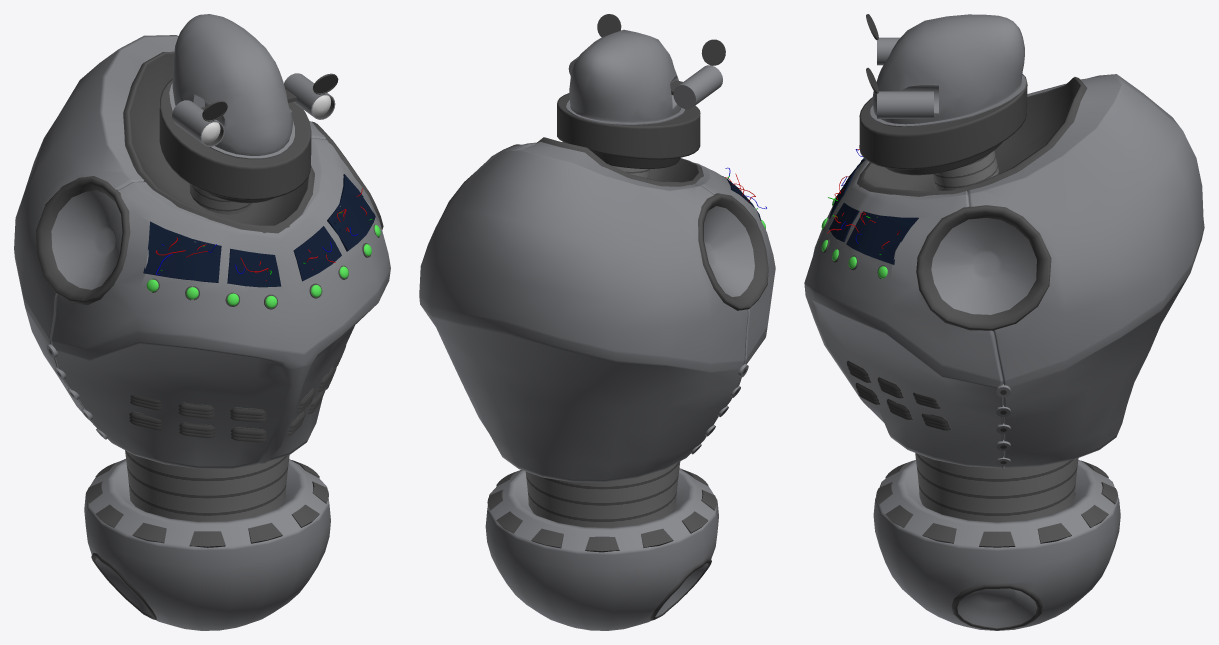
File: WaveBot_Body.fbx
3 views of the same model, side by side, from view 1: azimuth 30°, elevation 25°; view 2: azimuth 150°, elevation 25°; view 3: azimuth 270°, elevation 25° (orthographic). The views are drawn at different scales.
Visible parts, largest first — view 1: Torso_Main3, polySurface17, Dome, Belly, Jaw, Panel_Right_Far, pCylinder2 (×2), Panel_Left_Far, Panel_Right_Center, Panel_Left_Center, Neck, polySurface16 (+2 smaller); view 2: Torso_Main3, polySurface17, Dome, Belly, Jaw, pCylinder2, polySurface16, pCylinder4, polySurface18; view 3: Torso_Main3, polySurface17, Dome, Belly, Jaw, polySurface22, Panel_Left_Far, pCylinder2, Neck, polySurface21, Panel_Left_Center.
Boxes of the visible parts, bbox=[...] form: Torso_Main3: bbox=[14, 35, 390, 468]; polySurface17: bbox=[84, 459, 330, 630]; Dome: bbox=[169, 14, 294, 159]; Belly: bbox=[125, 450, 289, 521]; Jaw: bbox=[159, 79, 311, 203]; Panel_Right_Far: bbox=[143, 221, 221, 282]; pCylinder2 (×2): bbox=[172, 73, 335, 146]; Panel_Left_Far: bbox=[327, 174, 375, 251]; Panel_Right_Center: bbox=[227, 248, 281, 287]; Panel_Left_Center: bbox=[293, 226, 341, 281]; Neck: bbox=[189, 184, 252, 214]; polySurface16: bbox=[95, 558, 151, 615]; Torso_Main3: bbox=[419, 137, 775, 482]; polySurface17: bbox=[485, 468, 718, 630]; Dome: bbox=[566, 29, 684, 124]; Belly: bbox=[525, 461, 680, 527]; Jaw: bbox=[557, 93, 700, 168]; pCylinder2: bbox=[673, 65, 722, 109]; polySurface16: bbox=[655, 563, 708, 616]; pCylinder4: bbox=[701, 39, 725, 65]; polySurface18: bbox=[650, 557, 711, 620]; Torso_Main3: bbox=[804, 74, 1204, 468]; polySurface17: bbox=[873, 460, 1120, 630]; Dome: bbox=[870, 14, 1026, 126]; Belly: bbox=[915, 453, 1078, 522]; Jaw: bbox=[859, 74, 1027, 175]; polySurface22: bbox=[957, 588, 1036, 628]; Panel_Left_Far: bbox=[846, 211, 918, 264]; pCylinder2: bbox=[877, 91, 933, 118]; Neck: bbox=[932, 150, 998, 190]; polySurface21: bbox=[951, 584, 1042, 630]; Panel_Left_Center: bbox=[829, 203, 859, 242].
Size of the model in its own units: 57.39 by 106 by 64.15.
9 materials, 1 textured.
